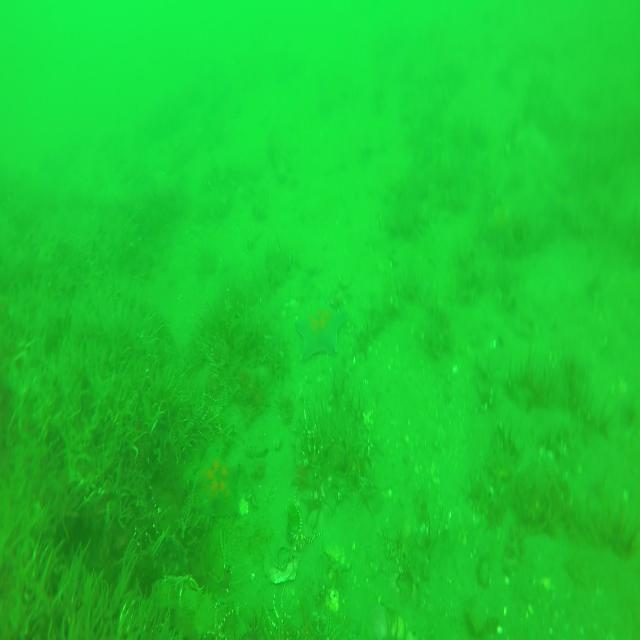starfish: (189, 454, 240, 526), (294, 291, 348, 358)
